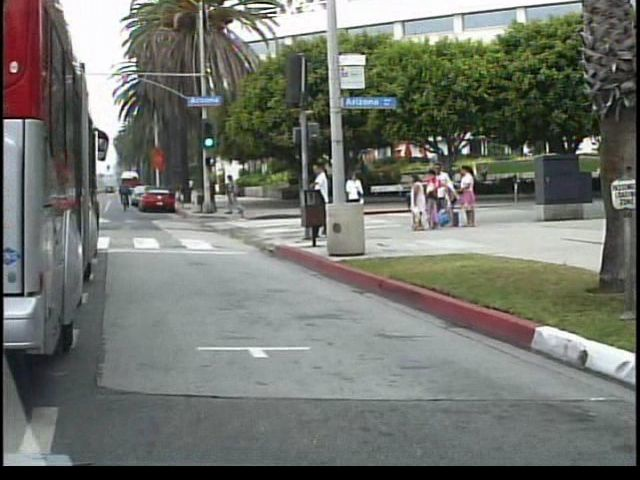person: (311, 158, 337, 241), (347, 167, 370, 231), (226, 170, 247, 217)
